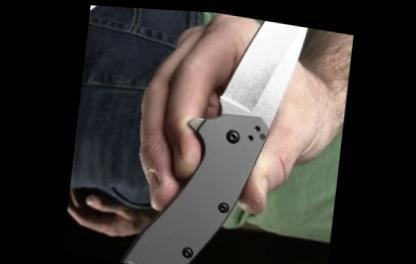knife: (129, 6, 318, 243)
